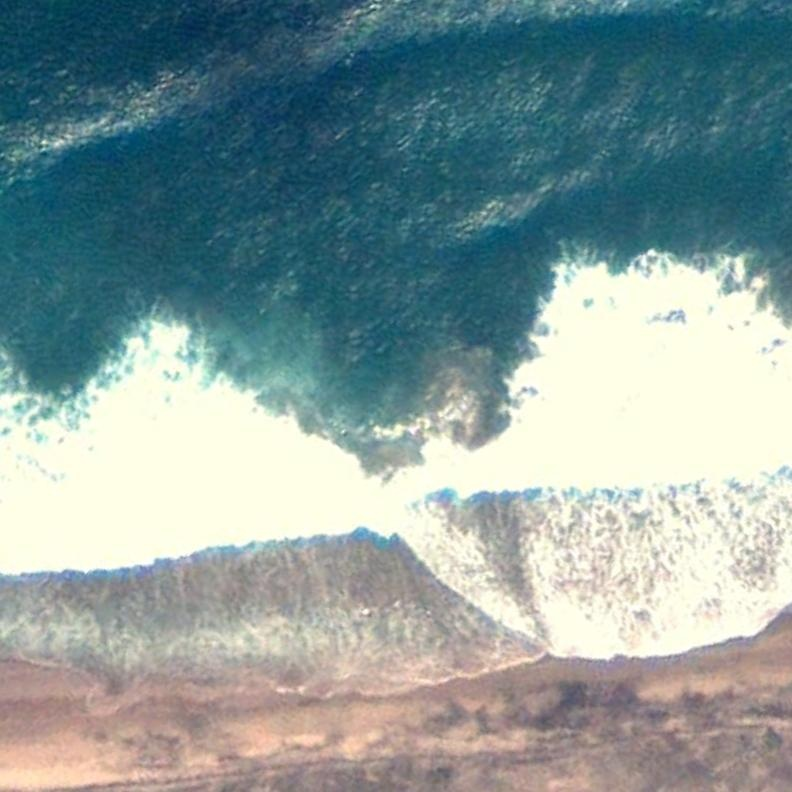rip_current: (335, 284, 556, 646)
